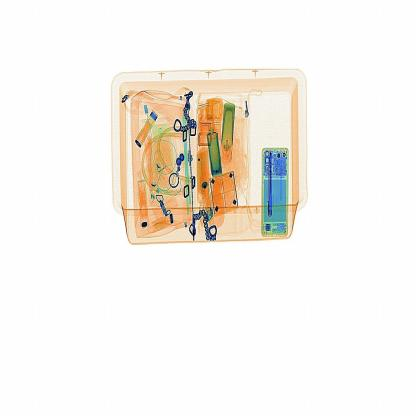pliers: (260, 146, 286, 219)
